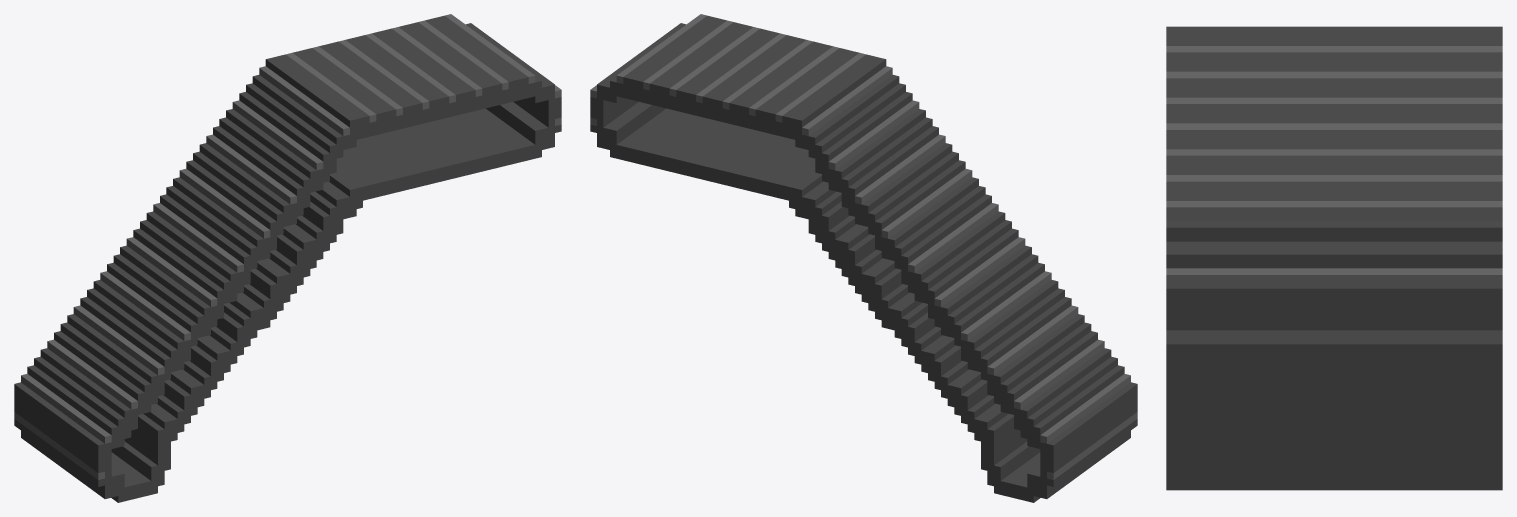
File: ConveyorBelt2.obj
The picture shows the model from 3 angles, left to right: view 1: azimuth 30°, elevation 25°; view 2: azimuth 150°, elevation 25°; view 3: azimuth 270°, elevation 25°; orthographic projection. The views are drawn at different scales.
Size of the model in its own units: 7 by 4.7 by 2.2.
1 material, 1 textured.
